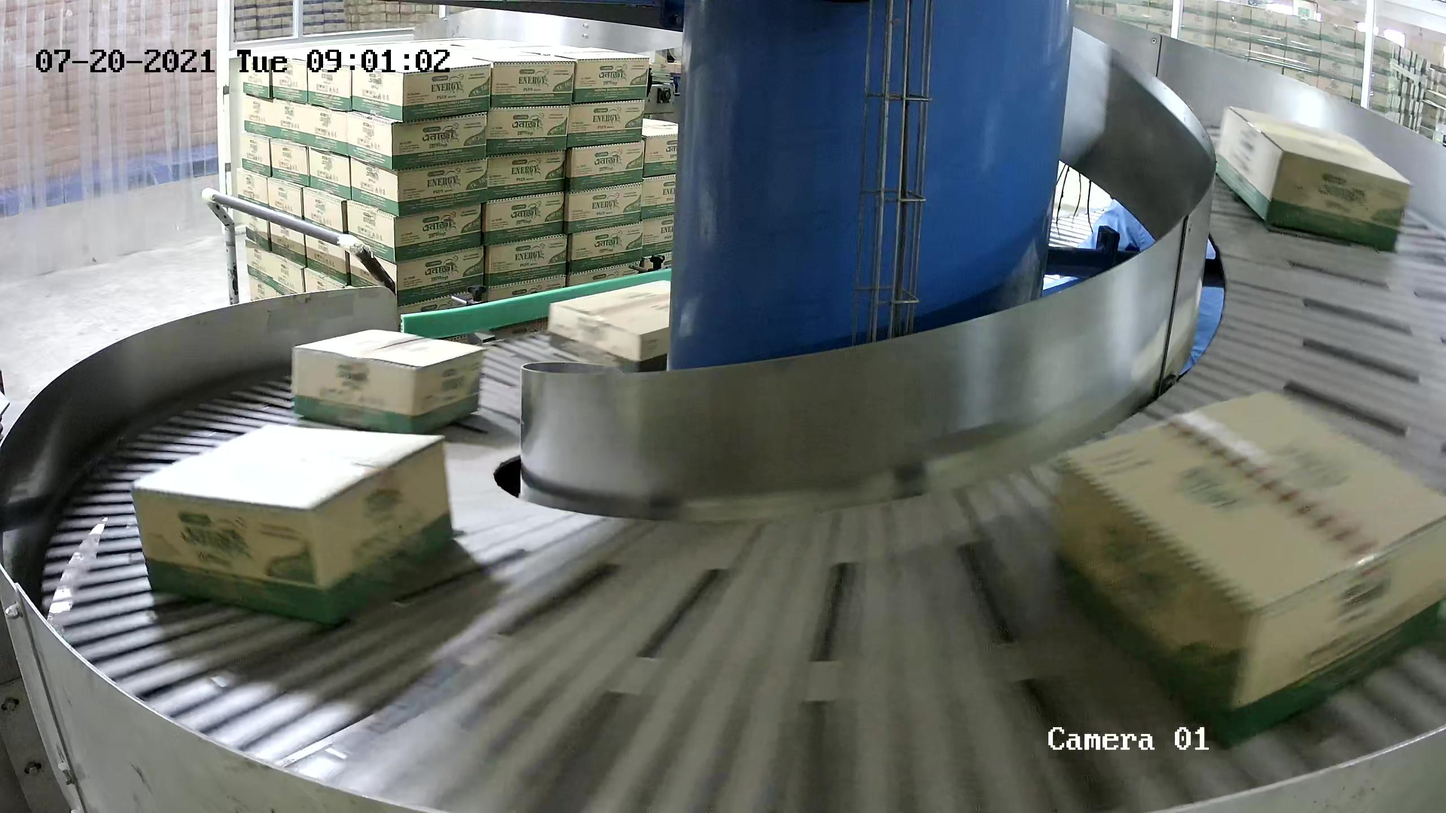Box: (1048, 386, 1446, 748), (129, 422, 456, 625), (1215, 105, 1413, 253), (290, 329, 487, 434), (547, 279, 670, 374)
